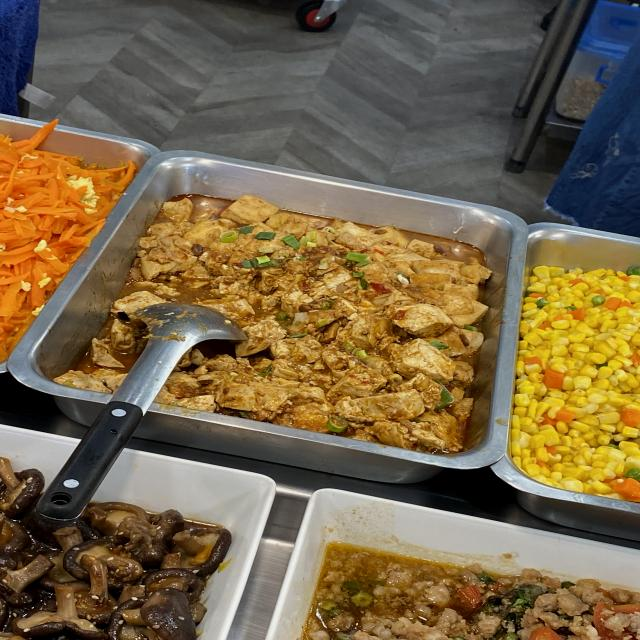Mapo Tofu: (263, 248, 458, 400)
